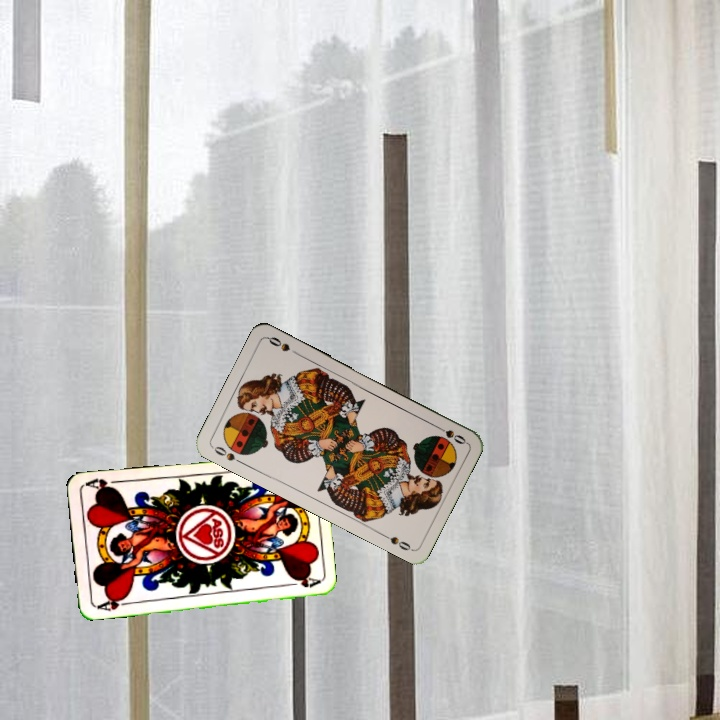HA: (92, 592, 133, 613)
SO: (431, 421, 469, 447), (208, 442, 246, 467)
